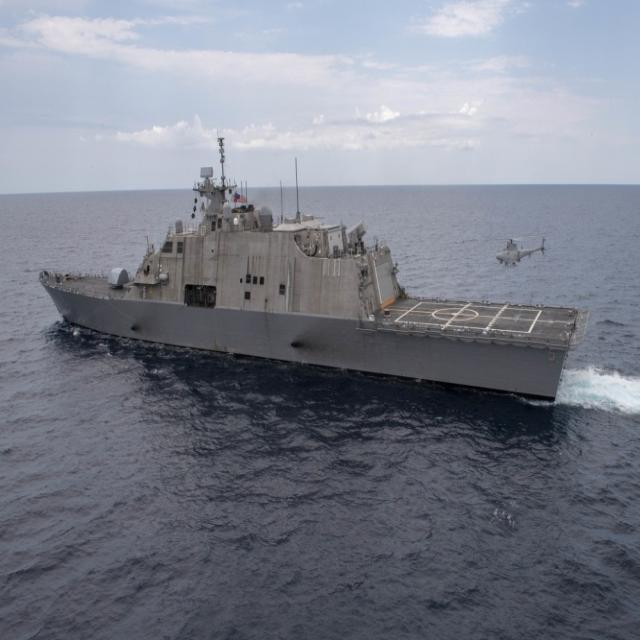navalvessels: (39, 102, 576, 402)
